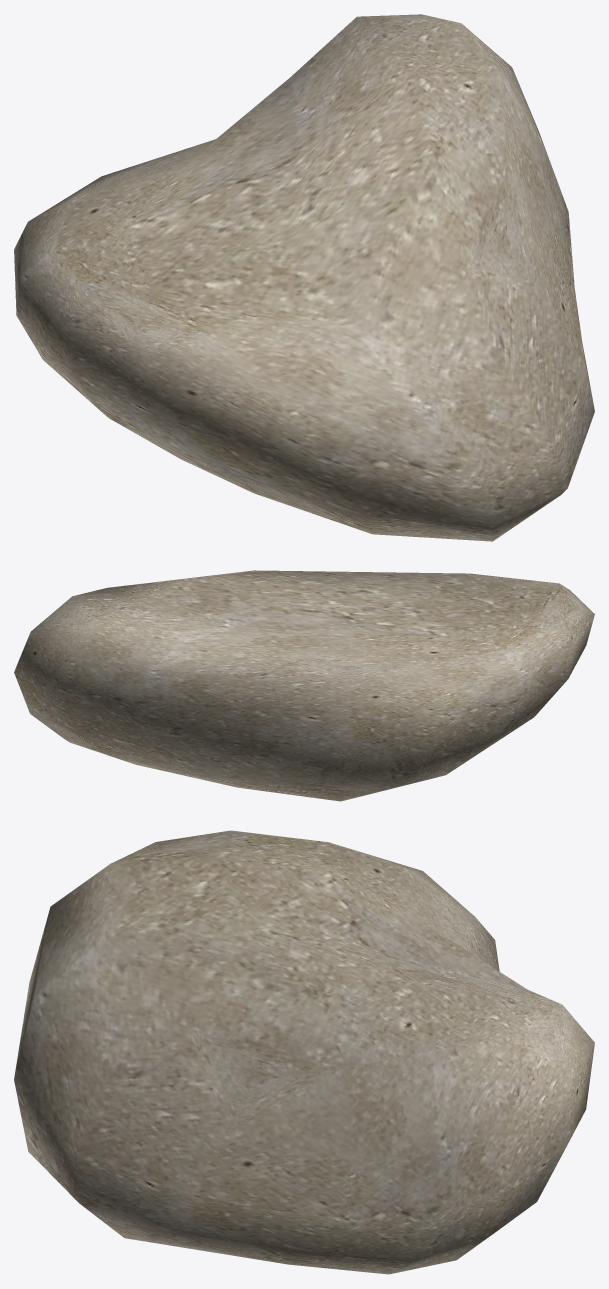
Rendered from Riverstone6.fbx.
The picture shows the model from 3 angles, top to bottom: view 1: azimuth 30°, elevation 25°; view 2: azimuth 150°, elevation 25°; view 3: azimuth 270°, elevation 25°; orthographic projection. The views are drawn at different scales.
Visible parts, largest first — view 1: Riverstone6; view 2: Riverstone6; view 3: Riverstone6.
Boxes of the visible parts, bbox=[...] form: Riverstone6: bbox=[14, 14, 594, 541]; Riverstone6: bbox=[14, 570, 594, 801]; Riverstone6: bbox=[14, 830, 594, 1274].
Size of the model in its own units: 107 by 50.12 by 96.2.
1 material, 1 textured.
